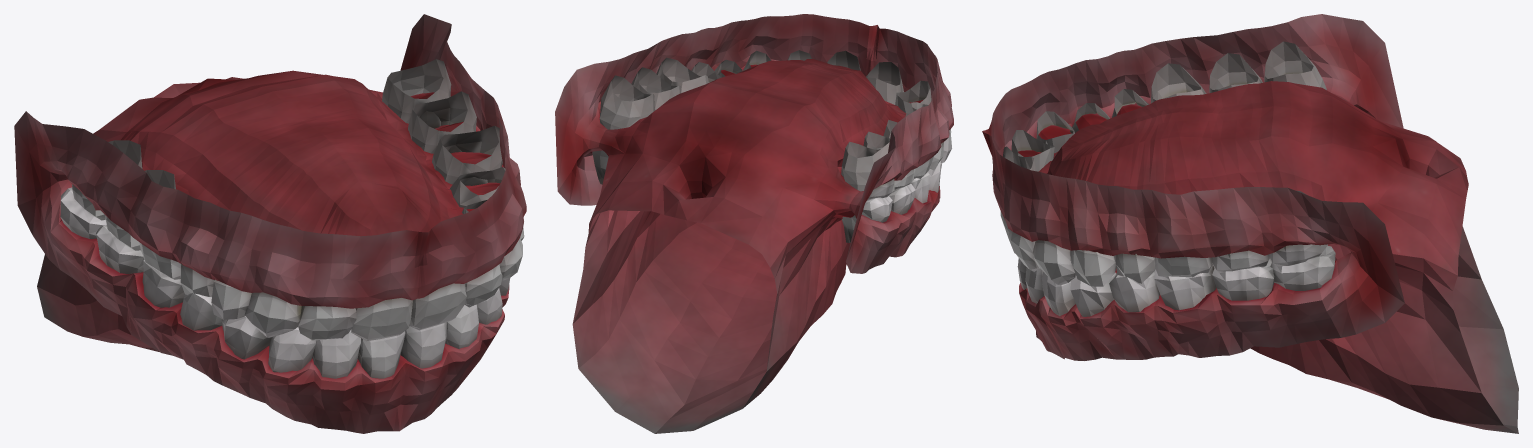
The model's file is teethMaterial.obj.
3 views of the same model, side by side, from view 1: azimuth 30°, elevation 25°; view 2: azimuth 150°, elevation 25°; view 3: azimuth 270°, elevation 25° (orthographic). The views are drawn at different scales.
Size of the model in its own units: 0.0644 by 0.0517 by 0.0782.
Materials: 1 (1 with a texture image).
